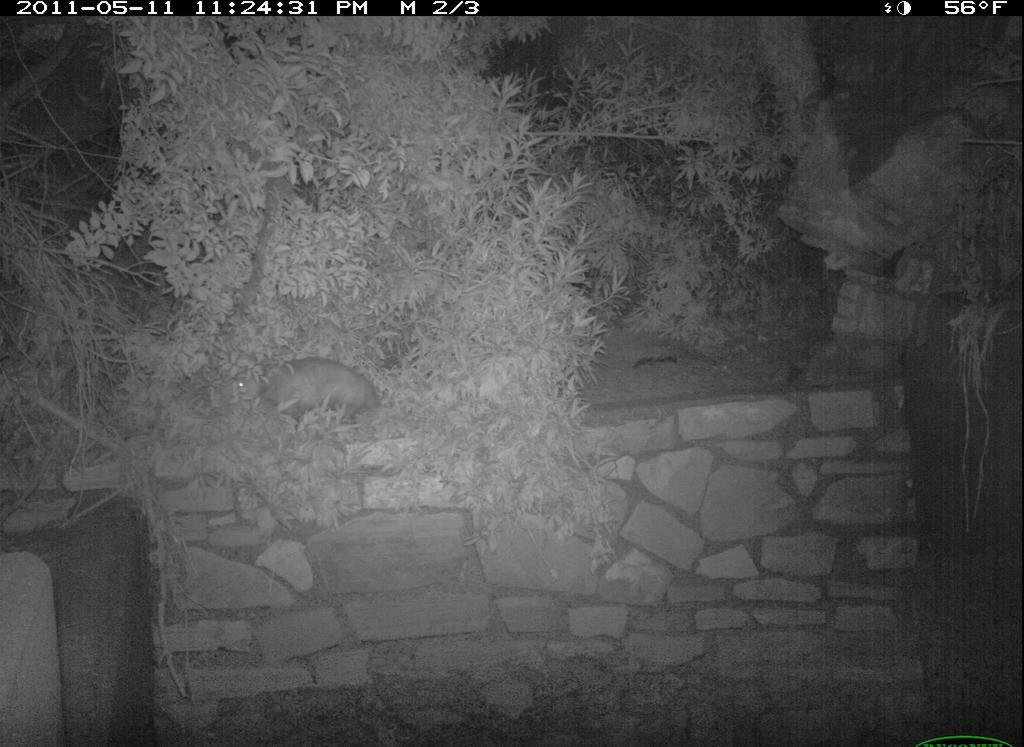opossum: (233, 358, 395, 438)
